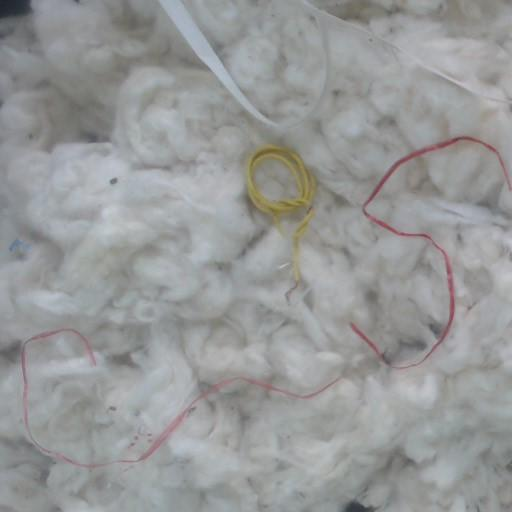cotton: (0, 0, 511, 511), (315, 0, 511, 97), (185, 0, 322, 119)
thread: (22, 328, 340, 469), (363, 137, 511, 368), (158, 0, 406, 128), (247, 145, 315, 281), (408, 56, 473, 92), (351, 323, 388, 364)
